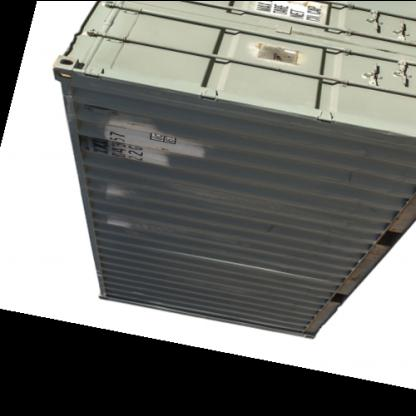Damage: (100, 107, 204, 174), (250, 32, 300, 72), (100, 212, 146, 232), (334, 157, 358, 187), (256, 214, 280, 235)
